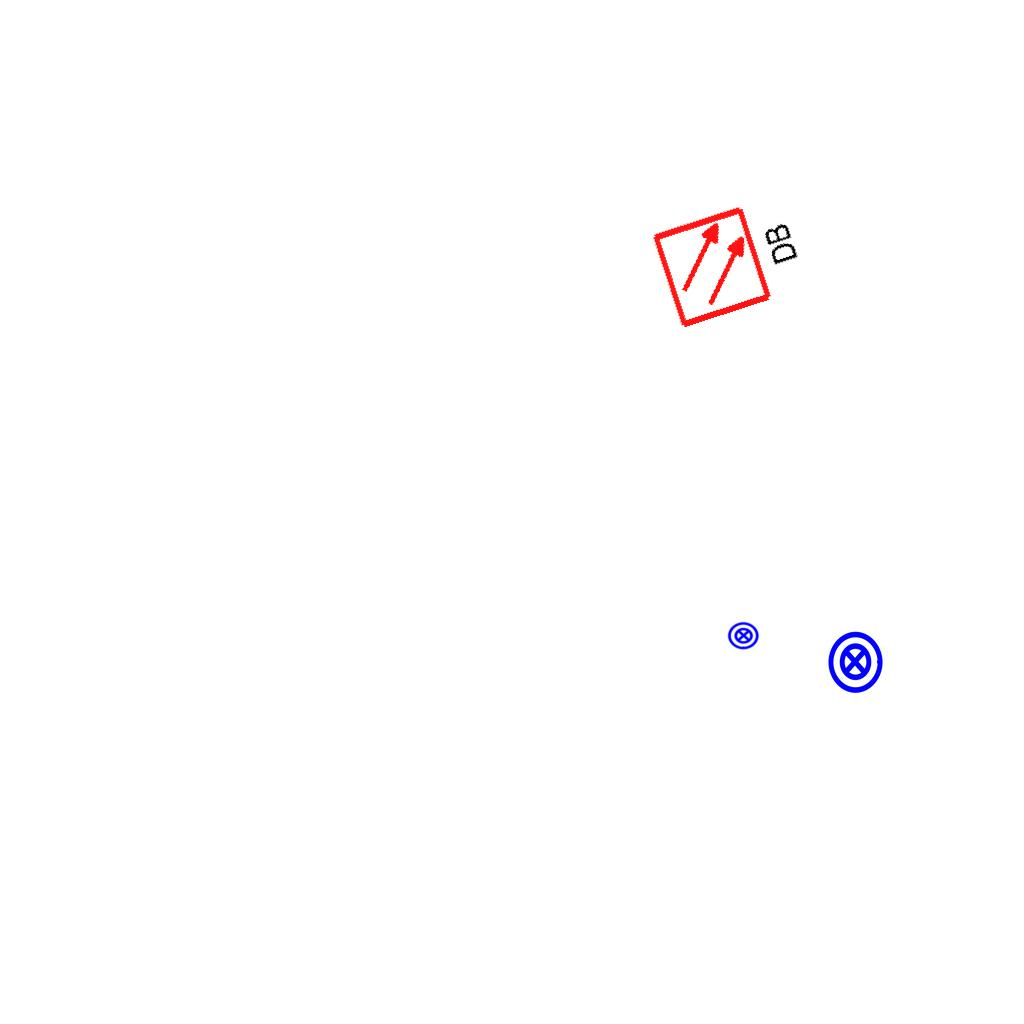DB_Melder_in_Doppelboden_mit_Revisionsoeffnung_mind_40_x_40_cm: (642, 182, 820, 337)
Taster_beleuchtet: (822, 629, 888, 695), (727, 619, 760, 652)
